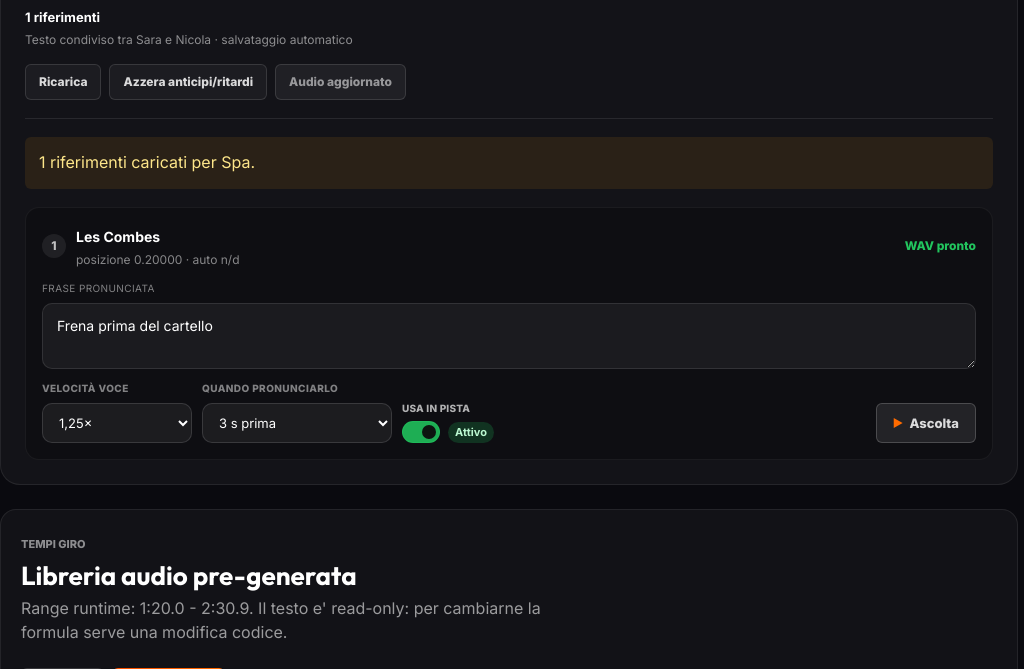
Scenario: Voice Lab user interactions › retains the original reference when autosave finishes after switching game and variant
The width and height of the screenshot is (1024, 669).
(page scrolled)
Replace the text in the text box labelled "Frase pronunciata" with "Edited ACC" at x=509, y=336, box [42,303,976,369]
(page scrolled)
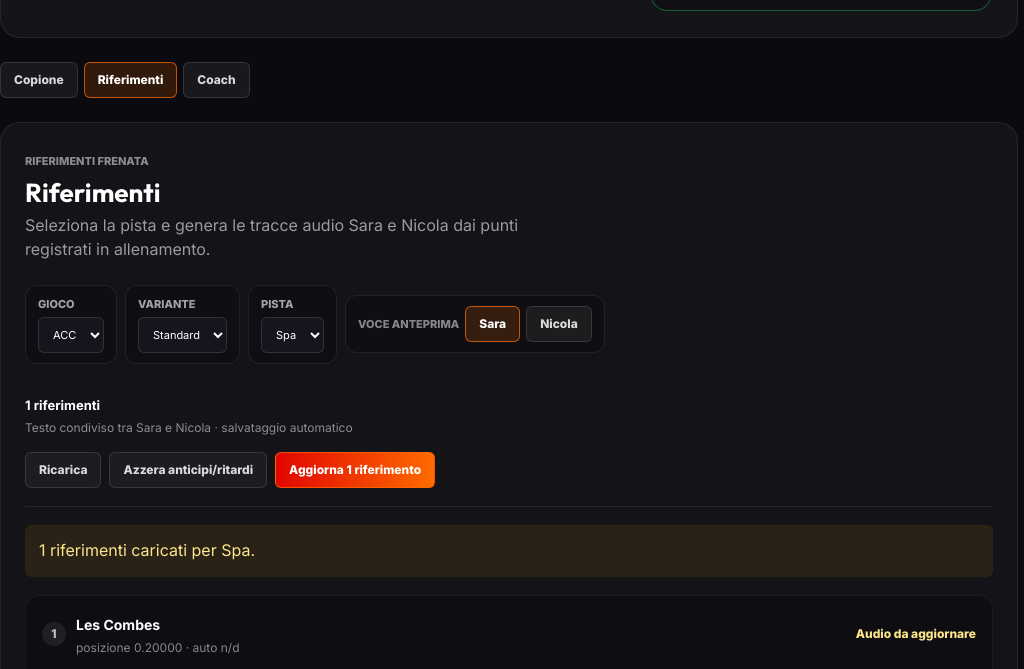
Select "EVO" in the dropdown named "Gioco riferimenti" at x=71, y=335, box [38,317,104,353]
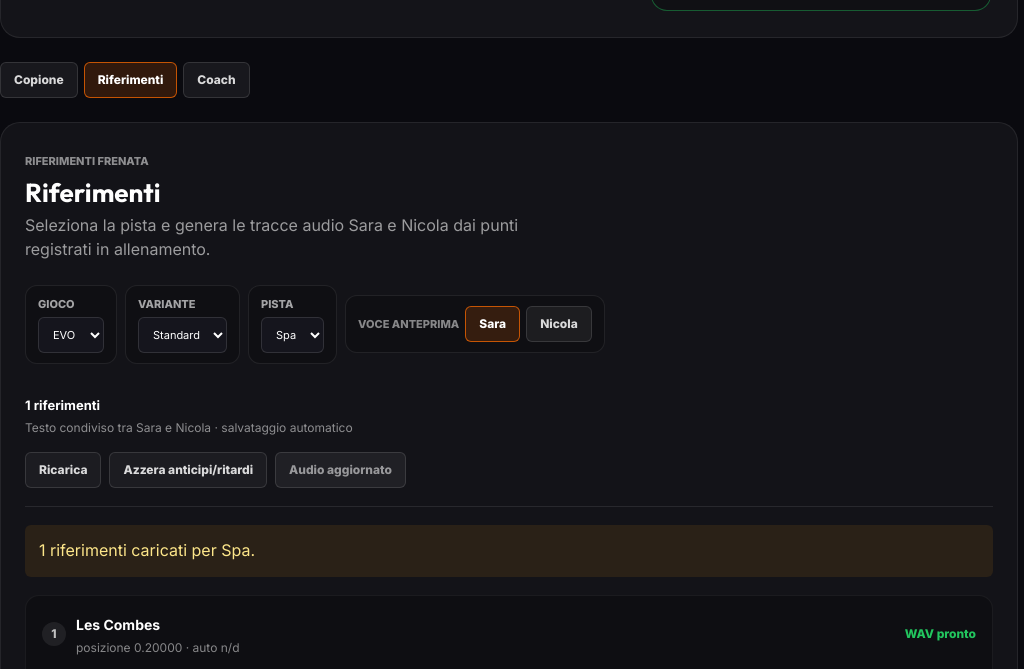
Select "short" in the dropdown named "Variante riferimenti" at x=182, y=335, box [138,317,227,353]
Wait 650 ms
(page scrolled)
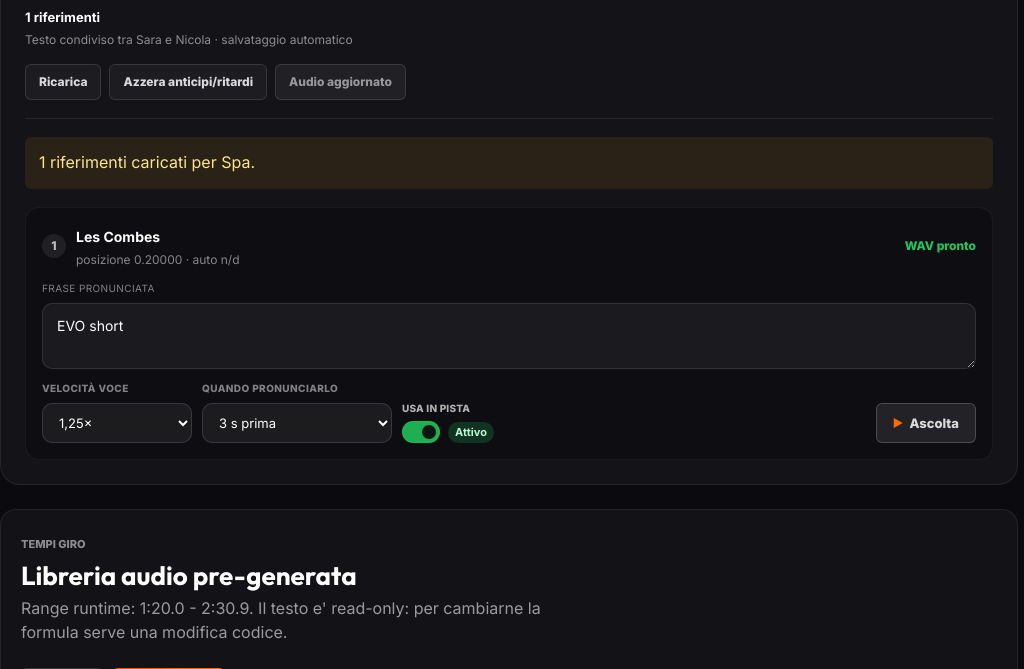
Now the text box labelled "Frase pronunciata" holds "EVO short"
Replace the text in the text box labelled "Frase pronunciata" with "Edited short" at x=509, y=336, box [42,303,976,369]
Wait 650 ms
(page scrolled)
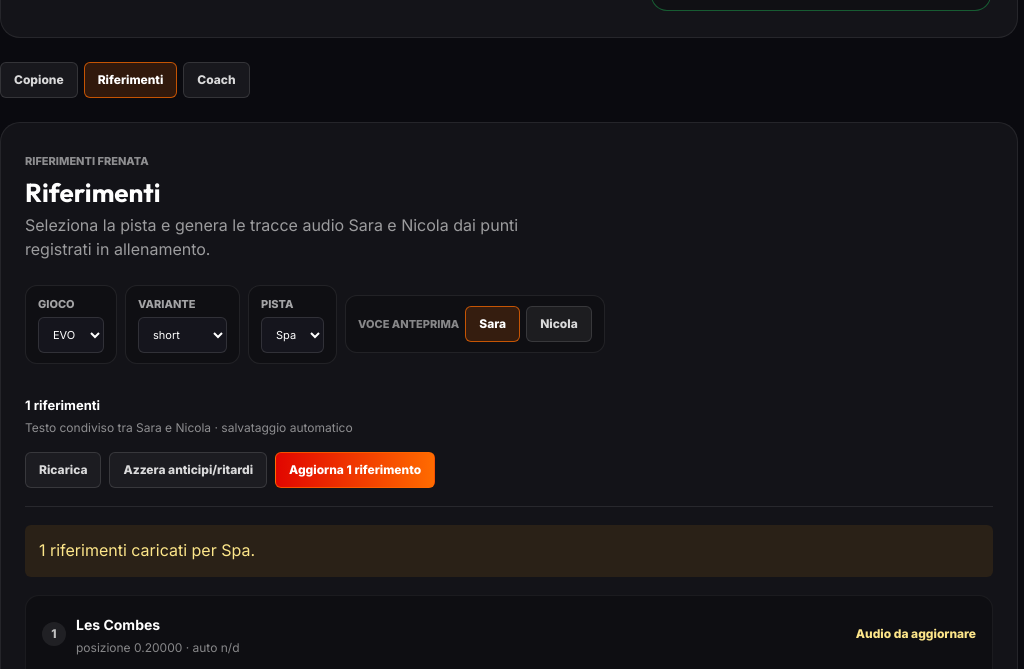
Select "ACC" in the dropdown named "Gioco riferimenti" at x=71, y=335, box [38,317,104,353]
(page scrolled)
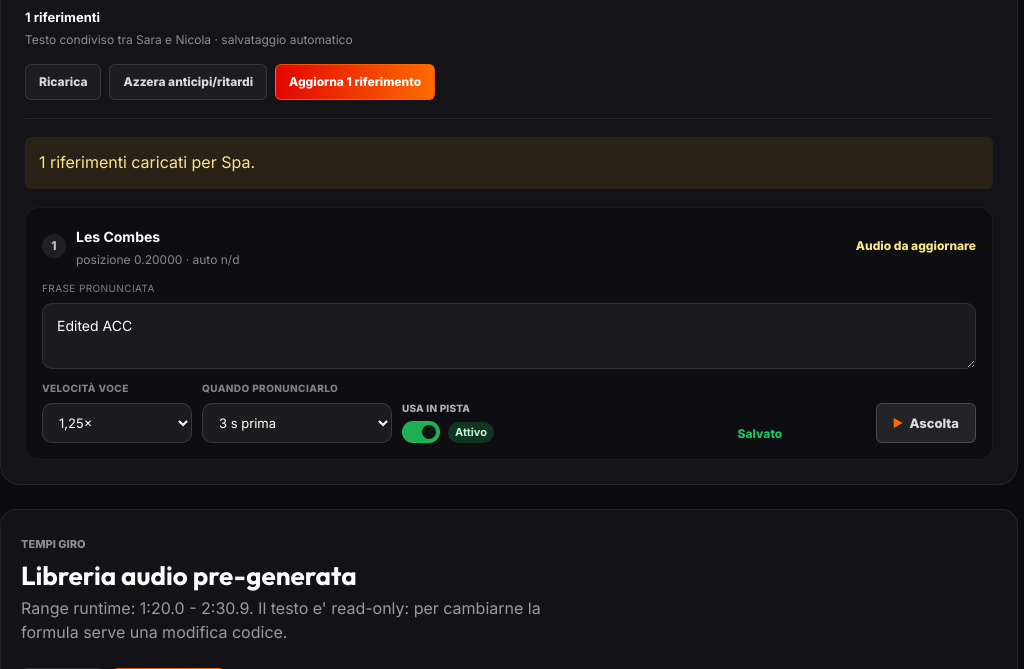
Now the text box labelled "Frase pronunciata" holds "Edited ACC", box [42,303,976,369]
